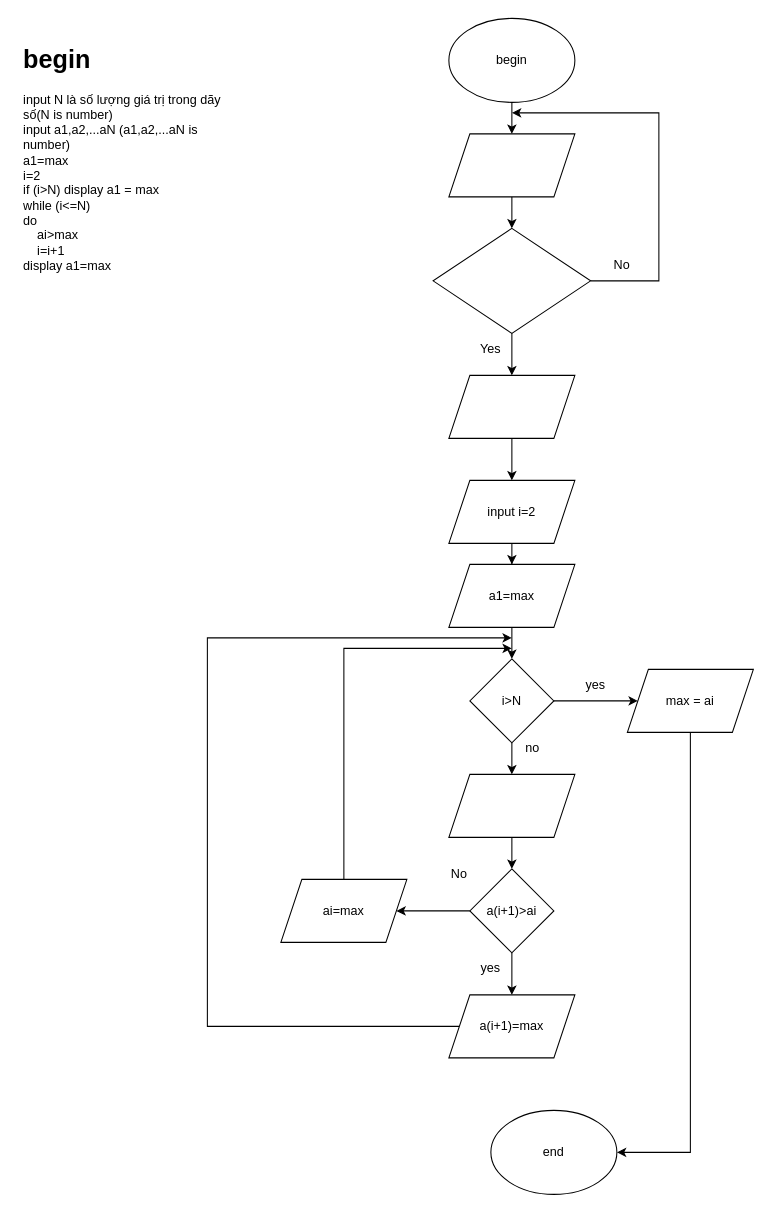
This 772x1213 diagram has some shape labels left out. The shapes that lost their labels are listed below. From the top down, each one's box as (x1, y1, x2, y2) in pixels, then its label:
(448, 133, 575, 197): input N
(432, 227, 591, 333): N is natural number
(448, 374, 575, 438): input a1,a2,..aN
(448, 773, 575, 837): i+1
